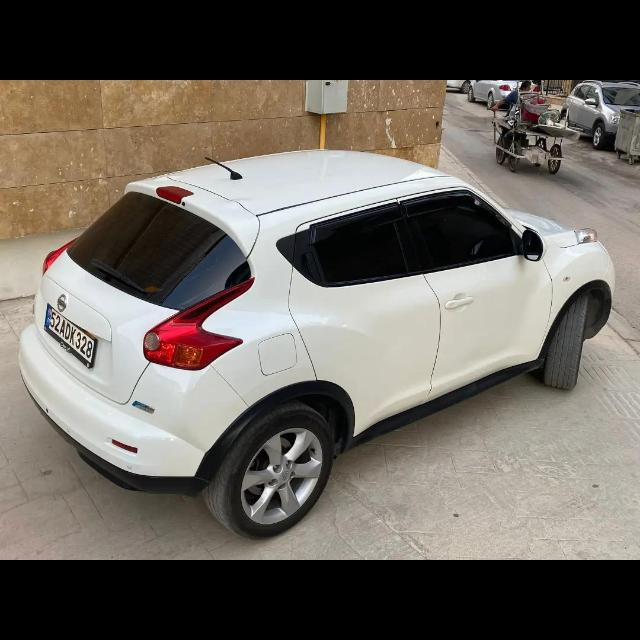Plaka: (48, 306, 96, 364)
